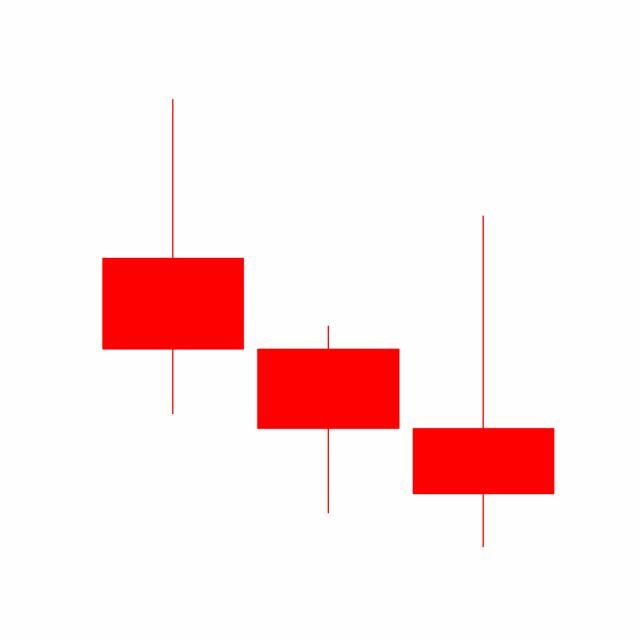Hammer: (250, 325, 407, 517)
